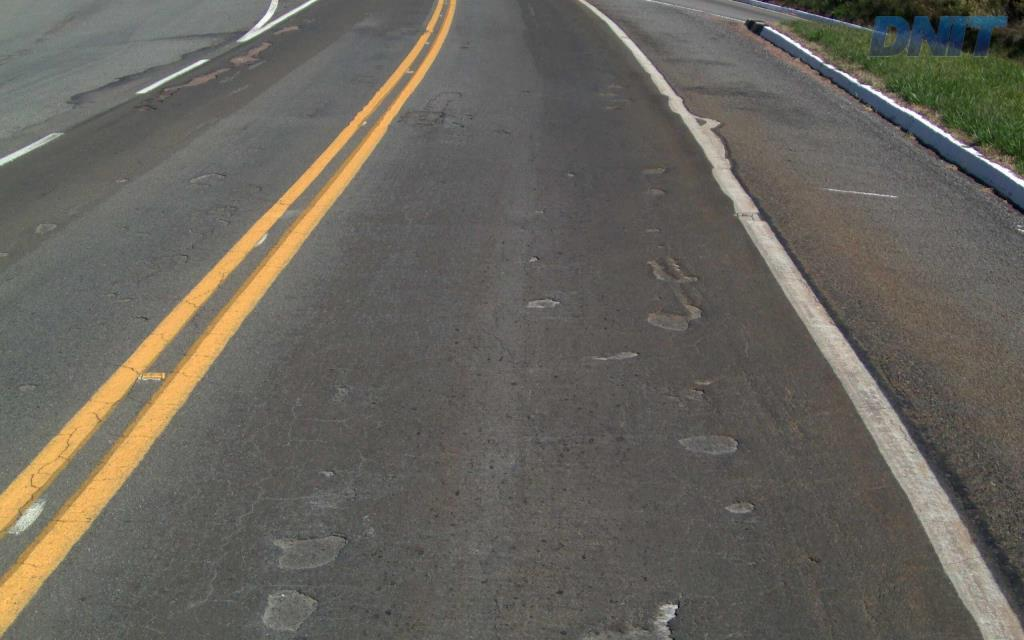pothole: (262, 528, 351, 578), (253, 585, 324, 636), (634, 297, 706, 337), (665, 425, 749, 459), (640, 247, 703, 290), (628, 596, 676, 638), (580, 346, 648, 367), (518, 288, 566, 316), (721, 497, 761, 517), (636, 161, 669, 179), (644, 186, 672, 202), (522, 253, 544, 269), (641, 224, 673, 235)
